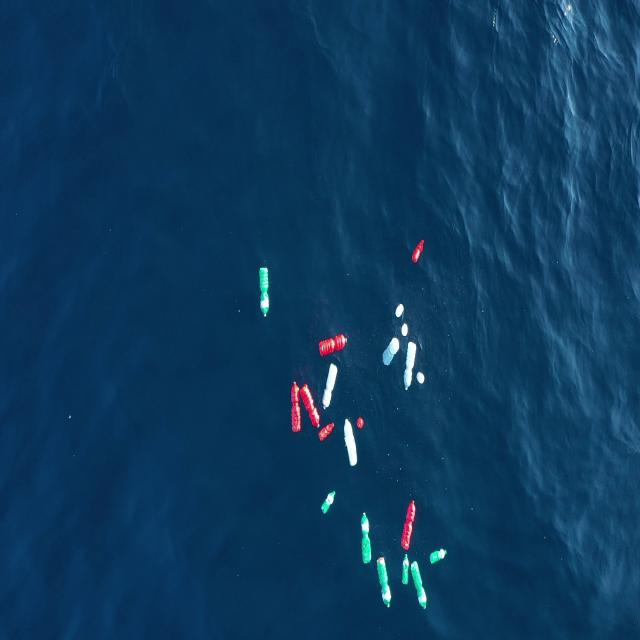bottles: (299, 382, 321, 428), (410, 558, 428, 611), (376, 554, 393, 609), (400, 497, 416, 551), (317, 331, 348, 358), (322, 362, 338, 410), (403, 341, 418, 391), (343, 417, 358, 467), (258, 265, 271, 319), (290, 378, 302, 434), (361, 511, 372, 565), (382, 336, 401, 367), (411, 236, 426, 265), (321, 489, 336, 515), (430, 545, 448, 566), (318, 421, 335, 443), (401, 552, 410, 586), (356, 415, 365, 431), (416, 372, 425, 384)
